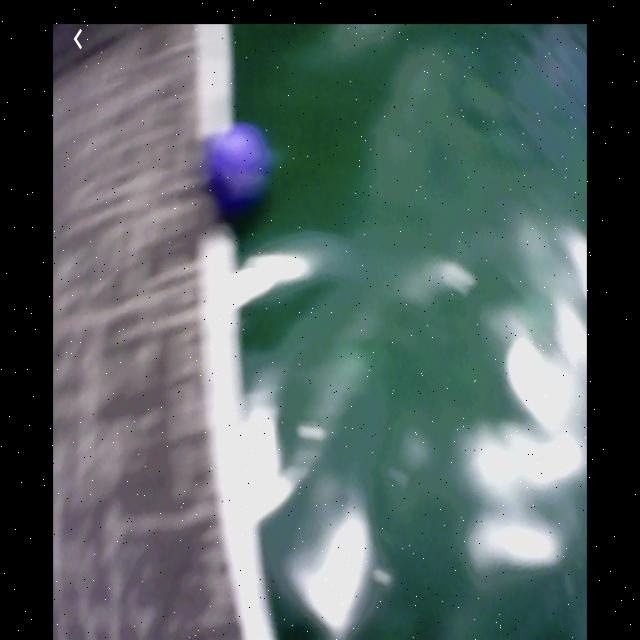ball: (209, 125, 271, 215)
